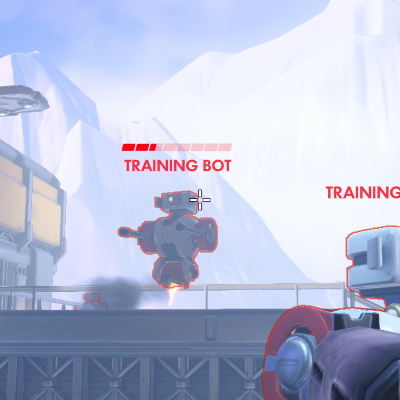hpbar: (121, 143, 232, 152)
